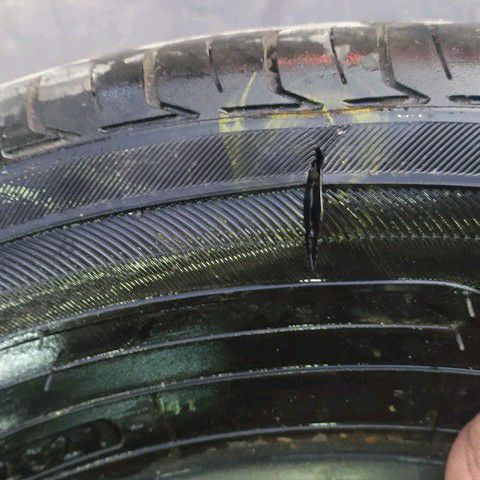cut: (302, 140, 324, 273)
